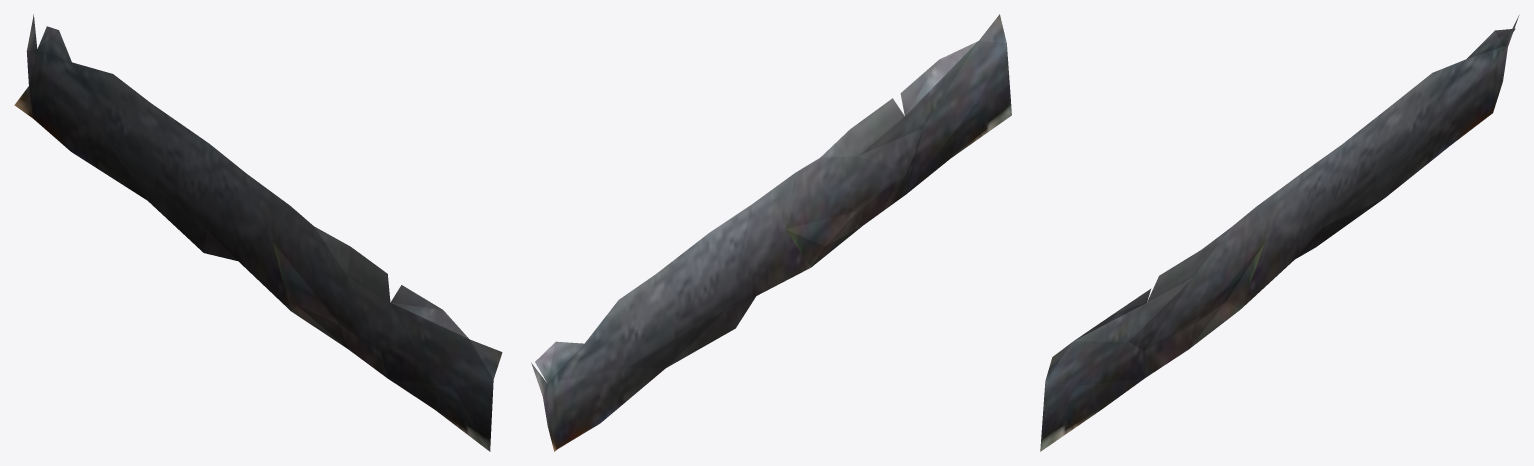
The model's file is meshes_1-dynamic - BLK2GO-3630355-Scan 080 15.obj.
3 renders of one model, left to right at view 1: azimuth 30°, elevation 25°; view 2: azimuth 150°, elevation 25°; view 3: azimuth 330°, elevation 25°, orthographic.
Parts seen in each view (by area): view 1: 1-dynamic_-_BLK2GO-3630355-Scan_080_15_0; view 2: 1-dynamic_-_BLK2GO-3630355-Scan_080_15_0; view 3: 1-dynamic_-_BLK2GO-3630355-Scan_080_15_0.
Part boxes in pixels (box(x1,y1,x2,y2)): 1-dynamic_-_BLK2GO-3630355-Scan_080_15_0: box(14, 14, 502, 451); 1-dynamic_-_BLK2GO-3630355-Scan_080_15_0: box(531, 14, 1011, 451); 1-dynamic_-_BLK2GO-3630355-Scan_080_15_0: box(1040, 15, 1519, 451).
Size of the model in its own units: 0.0539 by 0.2028 by 1.68.
1 material, 1 textured.
